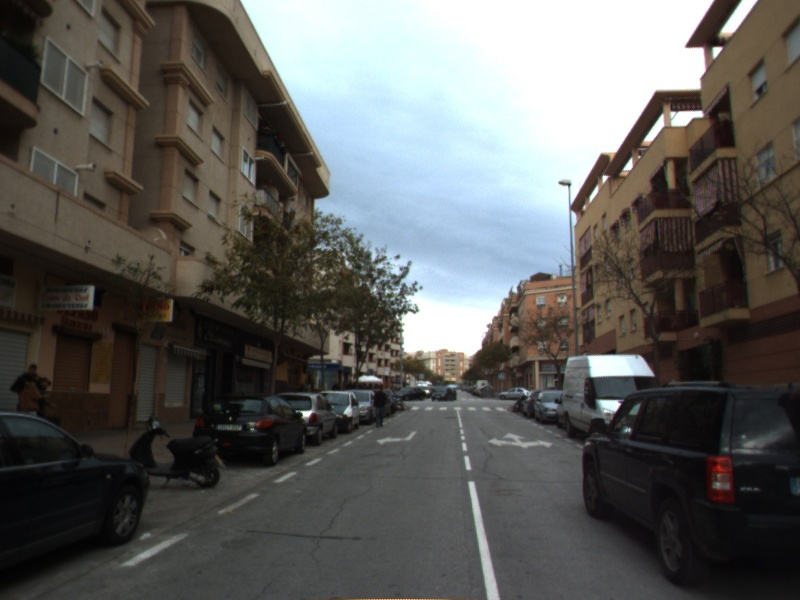STRAIGHT_LEFT_RIGHT: (486, 431, 555, 450)
